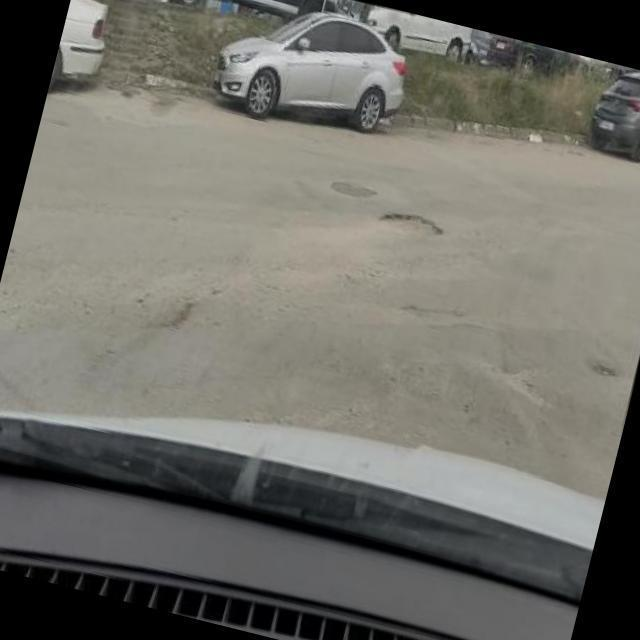Pothole: (375, 212, 444, 239)
